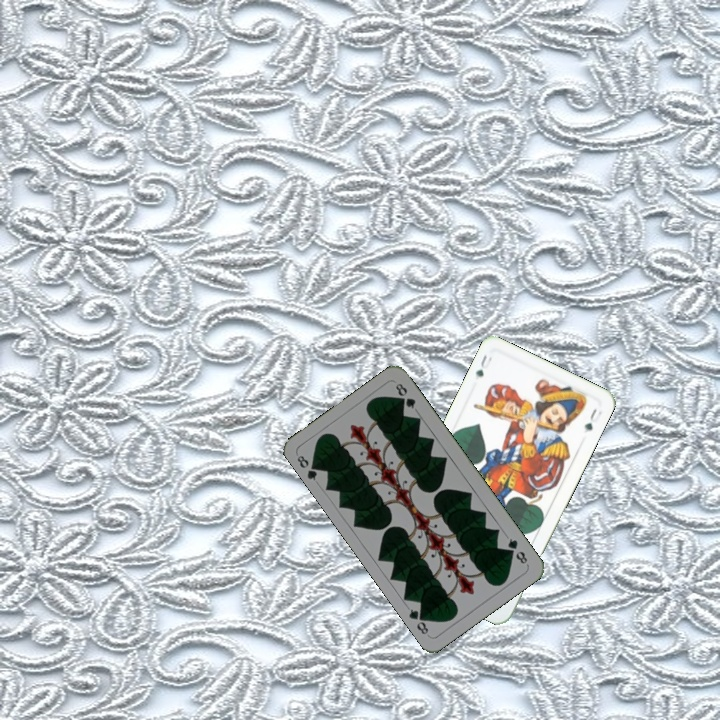G8: (293, 451, 323, 483), (503, 534, 530, 567)
GU: (472, 350, 495, 379)
